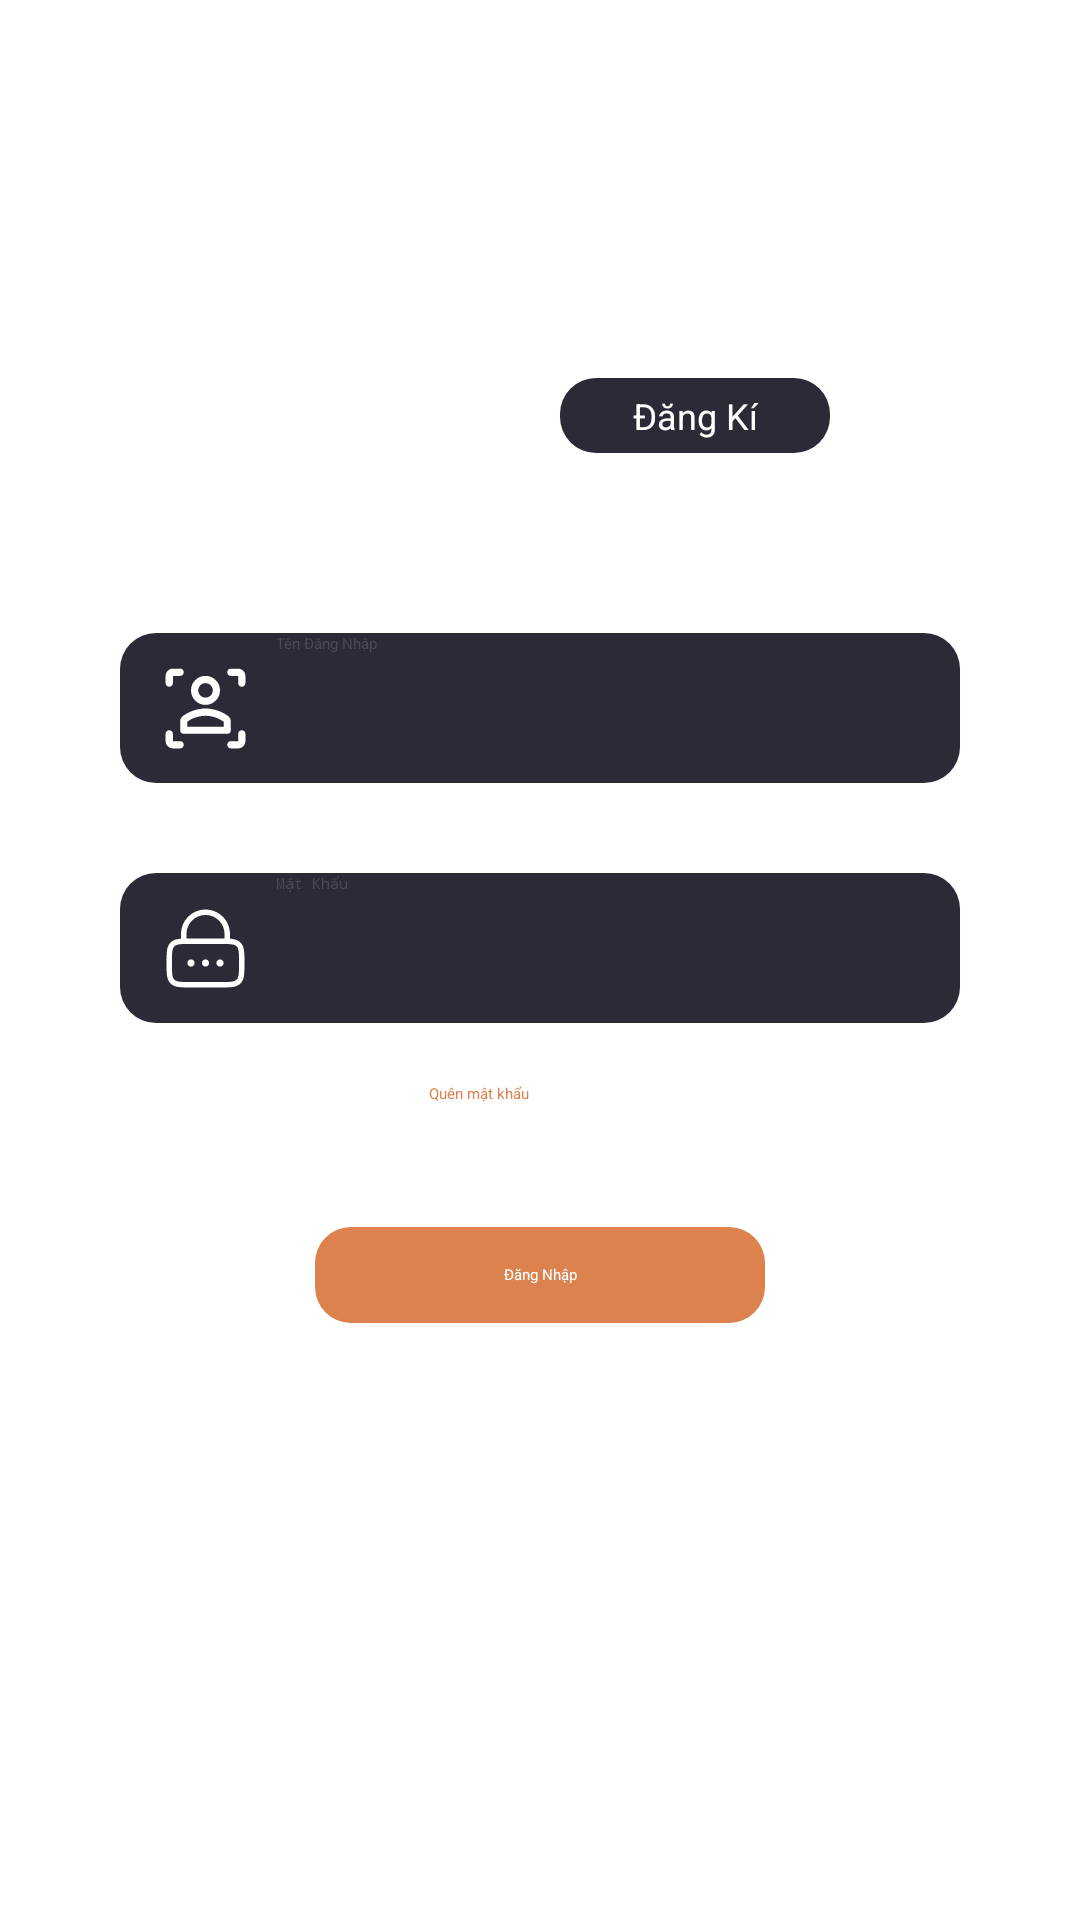

Where to tap for icons on this 1080px x 1920px app screen, as [x,y]:
acc login: [205,708]
password: [205,948]
